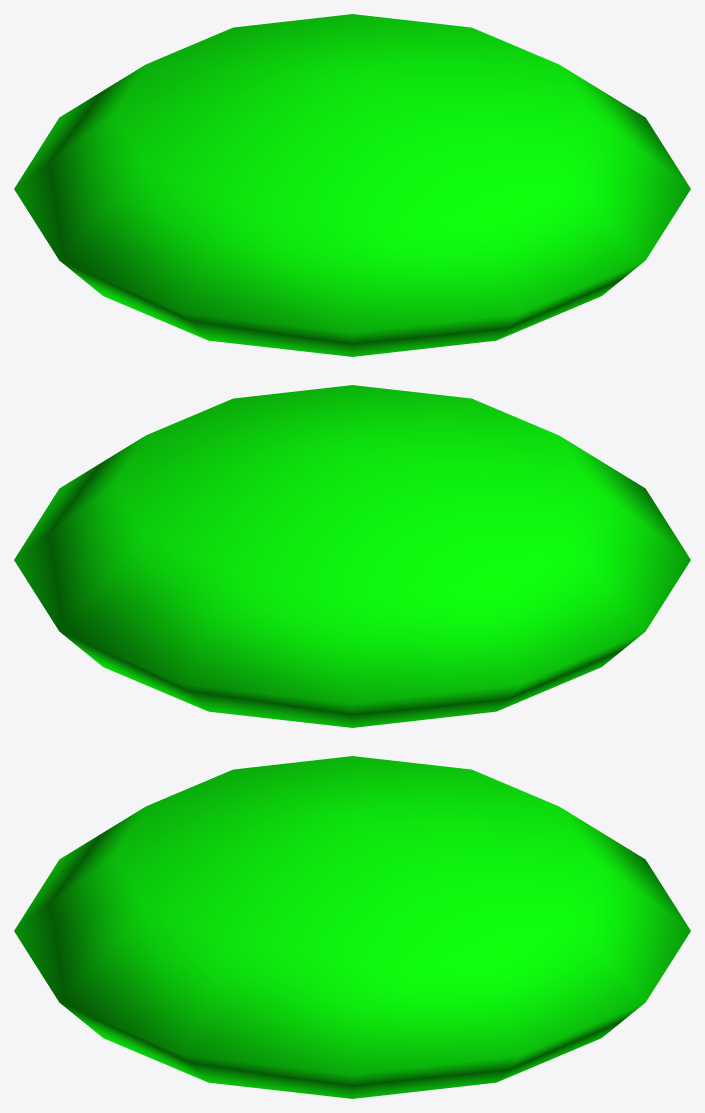
The model's file is Hat_Flat.FBX.
3 views of the same model, one above another, from view 1: azimuth 30°, elevation 25°; view 2: azimuth 150°, elevation 25°; view 3: azimuth 270°, elevation 25° (orthographic).
Parts seen in each view (by area): view 1: FlatTop_PH; view 2: FlatTop_PH; view 3: FlatTop_PH.
Boxes of the visible parts, box(x1,y1,x2,y2) form: FlatTop_PH: box(14, 14, 690, 356); FlatTop_PH: box(14, 385, 690, 727); FlatTop_PH: box(14, 756, 690, 1098).
Bounding box in the file's own units: 2352 × 600 × 2352.
